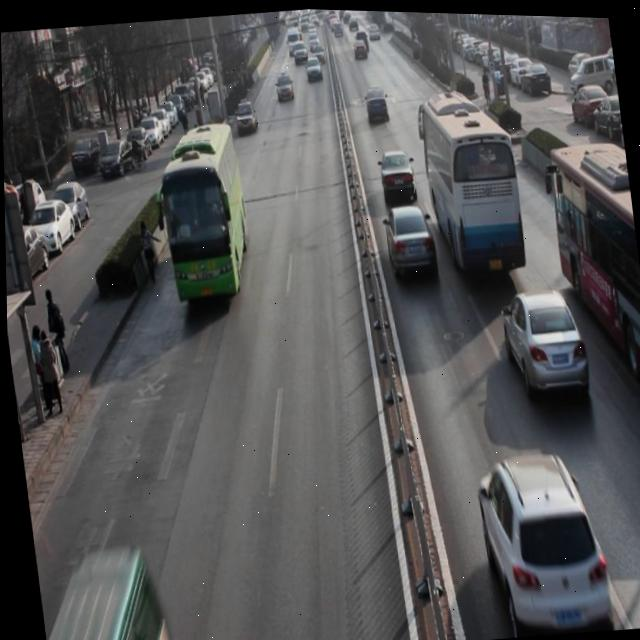car: (471, 443, 616, 637), (496, 278, 592, 404), (380, 201, 438, 280), (376, 144, 418, 203), (362, 84, 390, 123), (233, 97, 261, 136), (273, 71, 296, 103), (303, 54, 324, 83), (292, 41, 309, 65)
van: (542, 136, 640, 409), (416, 83, 526, 278), (153, 119, 253, 300)
